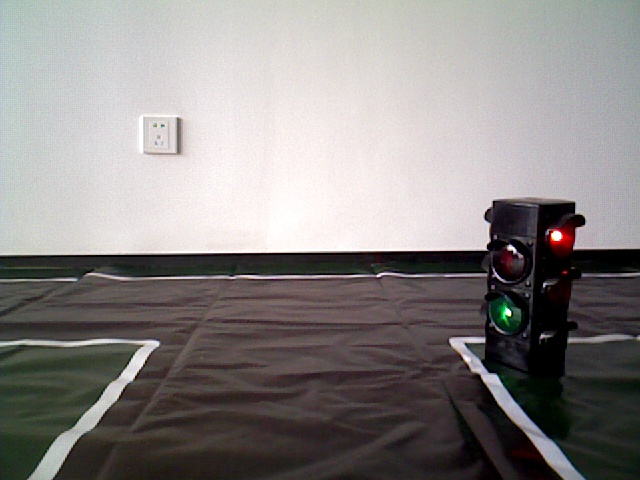red: (485, 196, 572, 361)
